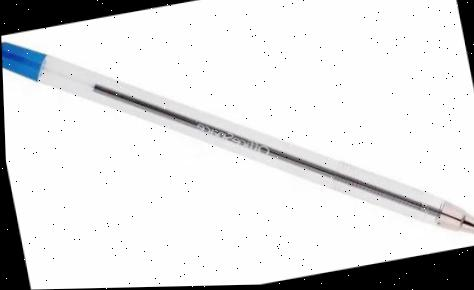pen-pencil: (2, 41, 474, 233)
